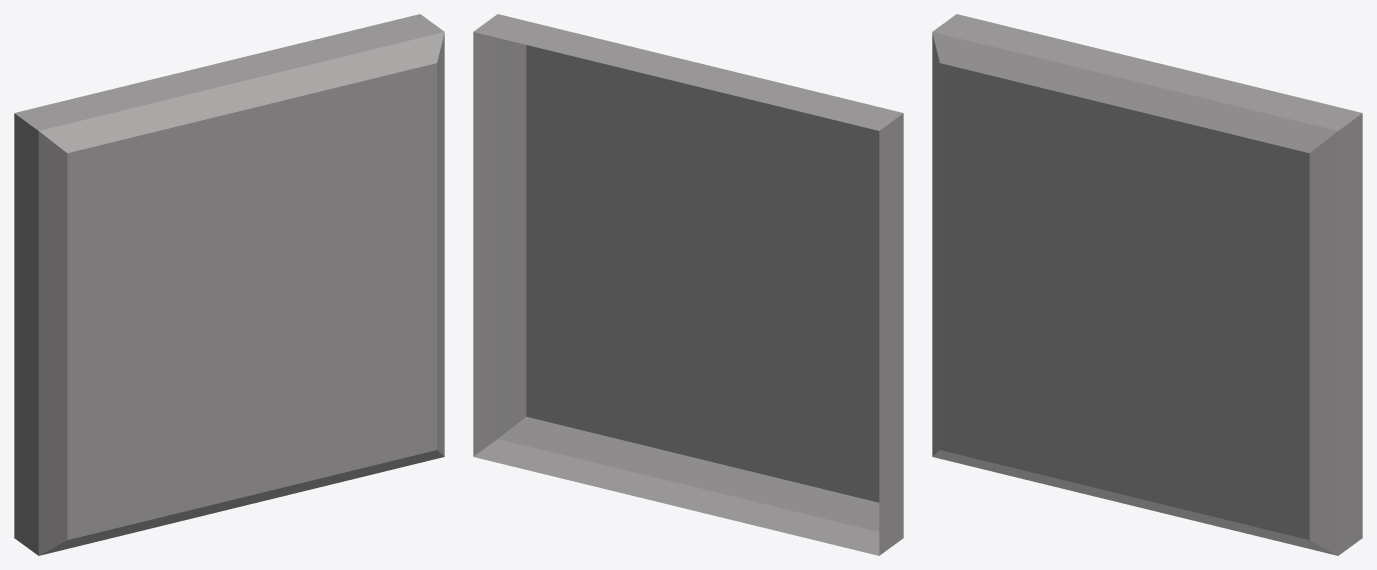
The model's file is HeadTrapBase_1_Metal.fbx.
3 views of the same model, side by side, from view 1: azimuth 30°, elevation 25°; view 2: azimuth 150°, elevation 25°; view 3: azimuth 330°, elevation 25° (orthographic).
Parts seen in each view (by area): view 1: HeadTrapBase_1_Metal; view 2: HeadTrapBase_1_Metal; view 3: HeadTrapBase_1_Metal.
Boxes of the visible parts, box(x1,y1,x2,y2) form: HeadTrapBase_1_Metal: box(14, 14, 444, 555); HeadTrapBase_1_Metal: box(473, 14, 903, 555); HeadTrapBase_1_Metal: box(932, 14, 1362, 555).
Size of the model in its own units: 56.56 by 56.56 by 8.44.
